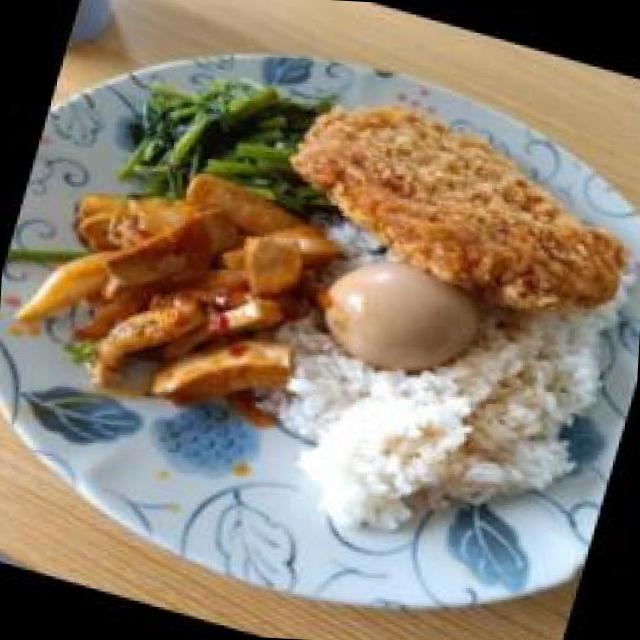fried_chicken: (275, 78, 640, 337)
rice: (237, 316, 592, 582)
water_spinach: (125, 55, 314, 214)
